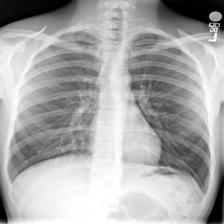normal: (4, 24, 214, 198)
